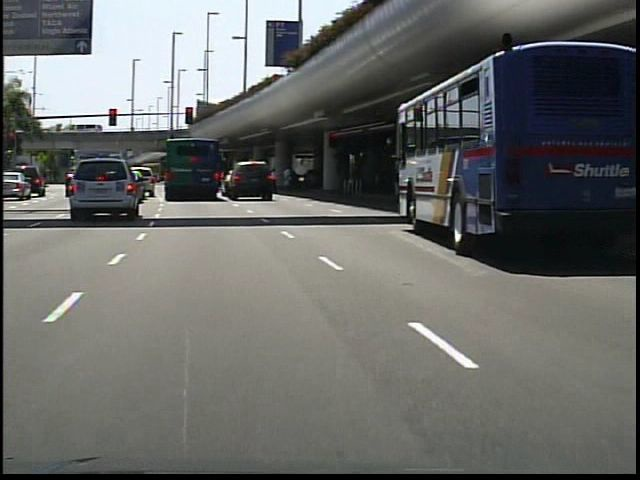person: (279, 161, 299, 198)
